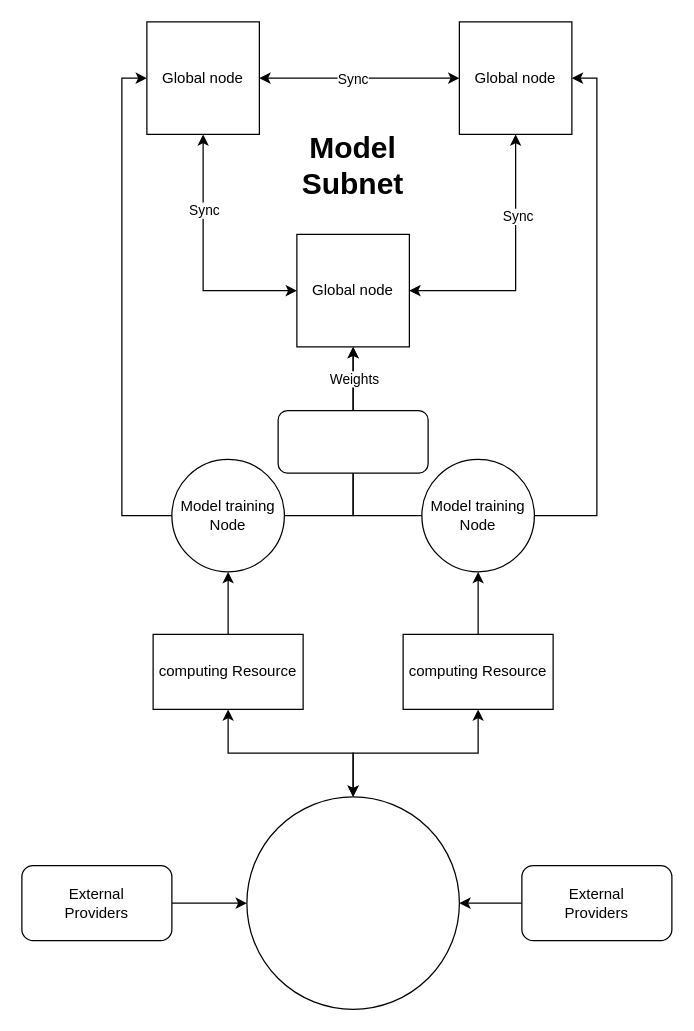
The diagram is 694 pixels wide and 1031 high, and some of its shapes have lost their labels. Here are the shapes that lost their labels. From the top down, the box of each, then its label:
(277, 409, 428, 473): Update Synchronization
(246, 796, 459, 1009): Resource Pool Network
